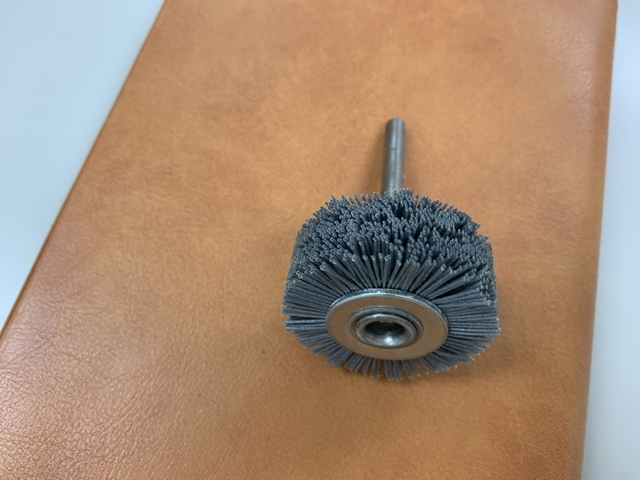Wheel Brush: (285, 107, 506, 374), (252, 150, 483, 375)
